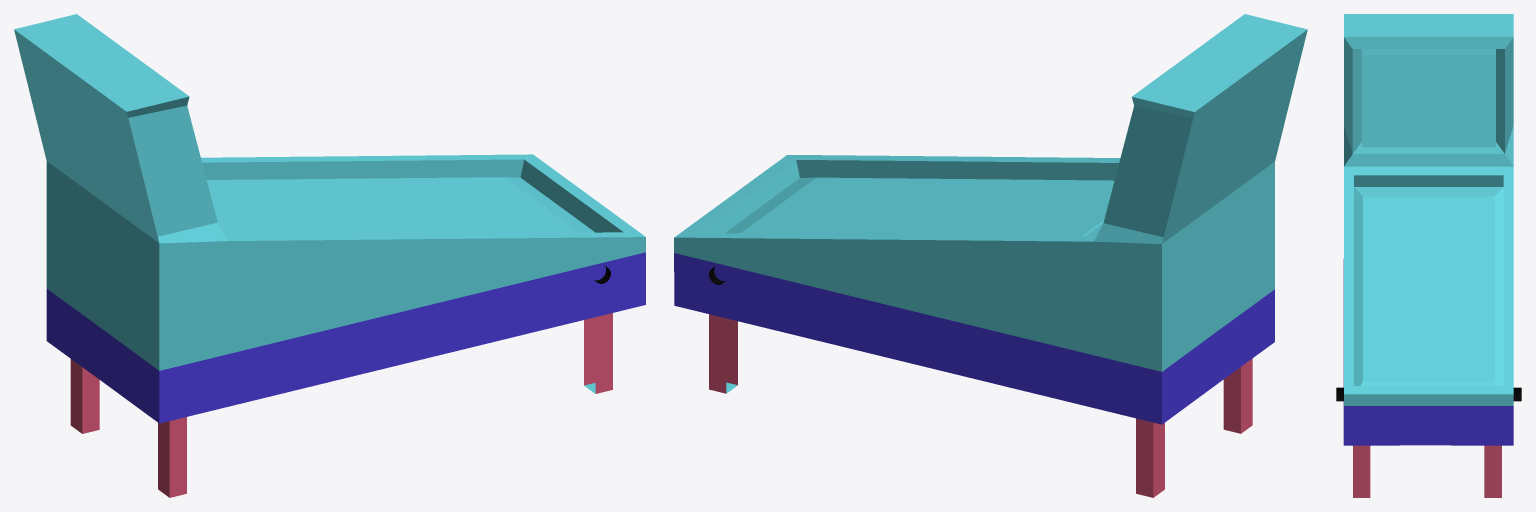
The model's file is gamingmachinee.fbx.
3 views of the same model, side by side, from view 1: azimuth 30°, elevation 25°; view 2: azimuth 150°, elevation 25°; view 3: azimuth 270°, elevation 25° (orthographic). The views are drawn at different scales.
Visible parts, largest first — view 1: Cube.001; view 2: Cube.001; view 3: Cube.001.
Boxes of the visible parts, bbox=[...] form: Cube.001: bbox=[14, 14, 645, 497]; Cube.001: bbox=[674, 14, 1307, 497]; Cube.001: bbox=[1336, 14, 1521, 497].
Size of the model in its own units: 971 by 719 by 398.
